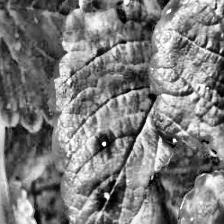Leaf Spot: (48, 0, 190, 224), (147, 0, 224, 224)
